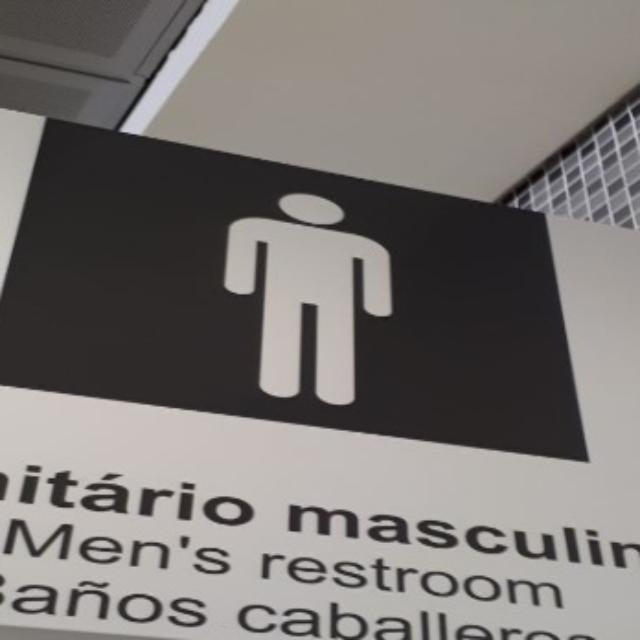wc nam: (0, 121, 587, 458)
